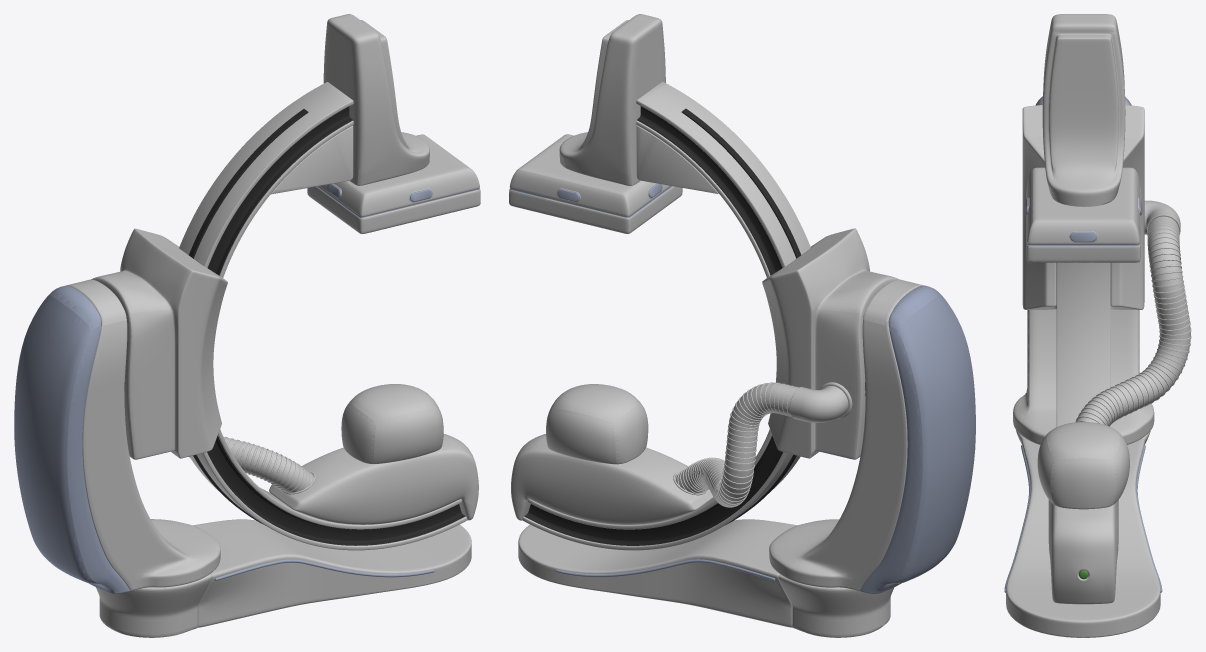
Rendered from scanner.fbx.
3 views of the same model, side by side, from view 1: azimuth 30°, elevation 25°; view 2: azimuth 150°, elevation 25°; view 3: azimuth 270°, elevation 25° (orthographic). The views are drawn at different scales.
Visible parts, largest first — view 1: scanner; view 2: scanner; view 3: scanner.
Boxes of the visible parts, bbox=[...] form: scanner: bbox=[14, 14, 480, 637]; scanner: bbox=[509, 14, 975, 637]; scanner: bbox=[1004, 14, 1191, 637].
Size of the model in its own units: 285 by 335 by 100.
Materials: 1 (1 with a texture image).
